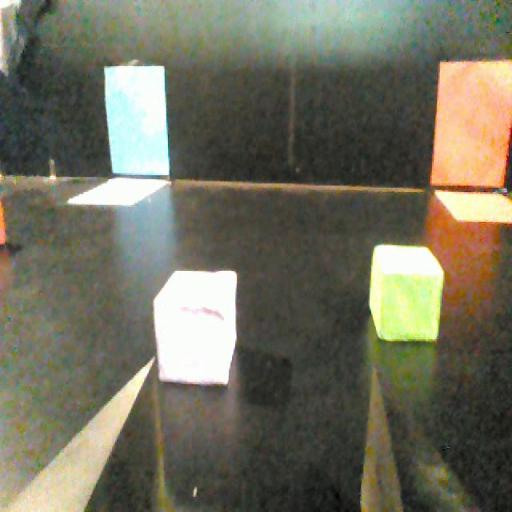cube: (150, 261, 240, 388), (368, 242, 444, 344)
